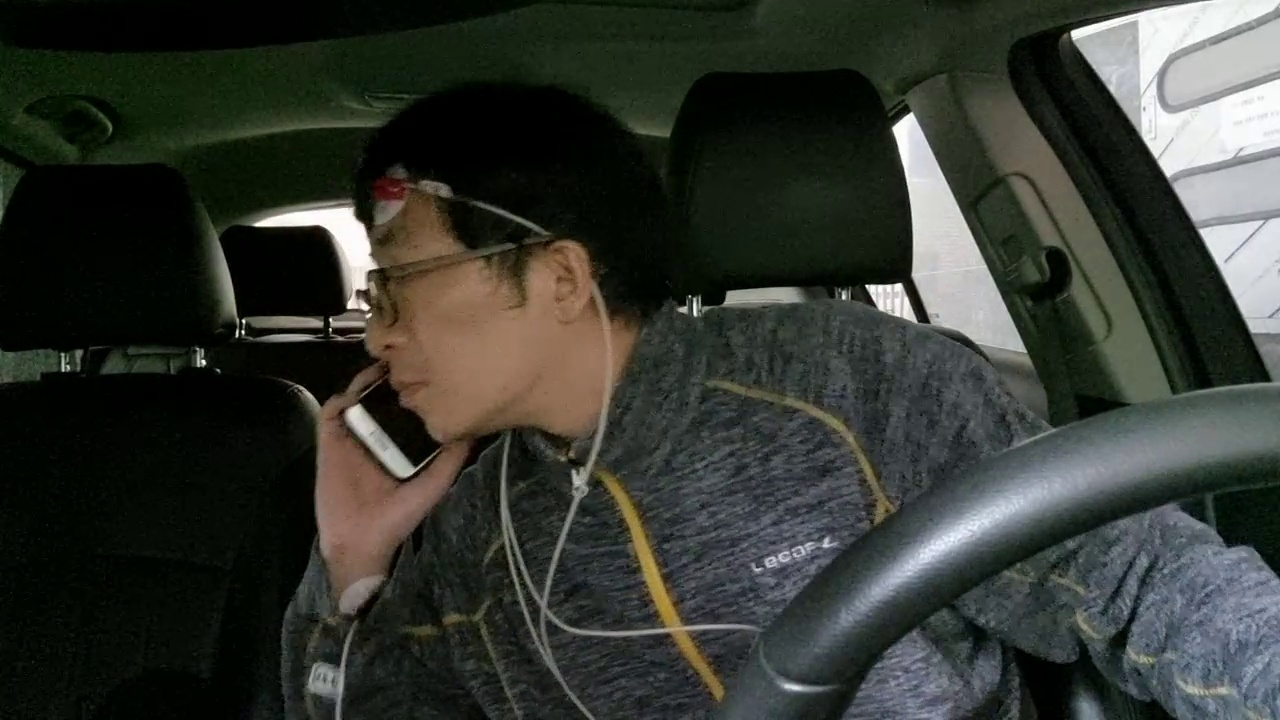phone: (325, 334, 486, 491)
